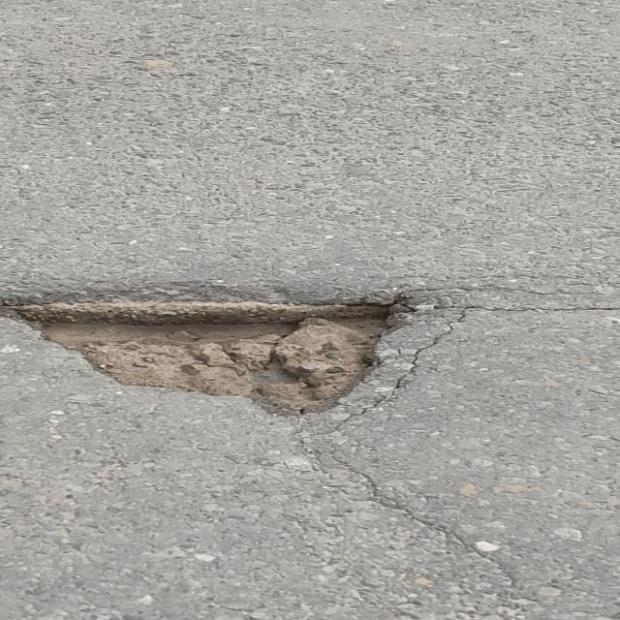lubang: (0, 293, 446, 415)
